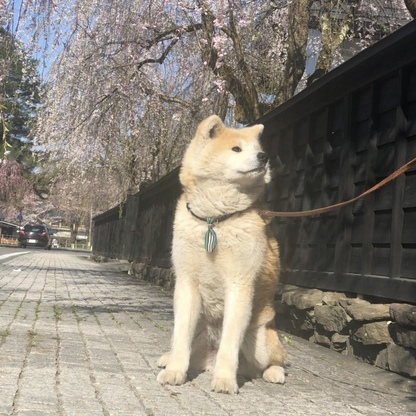akita: (150, 107, 299, 395)
